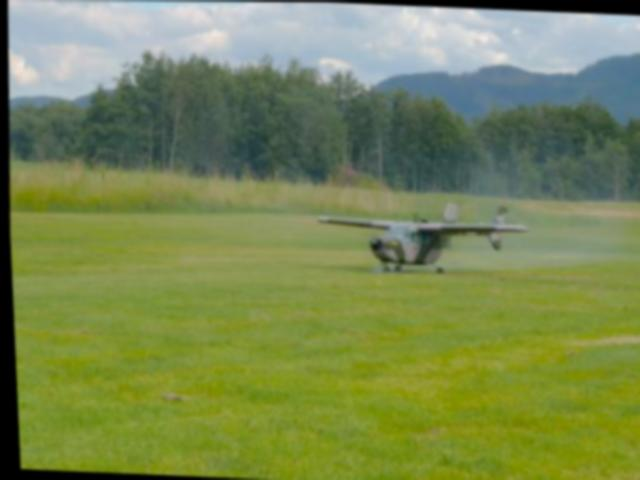uav: (315, 191, 528, 269)
